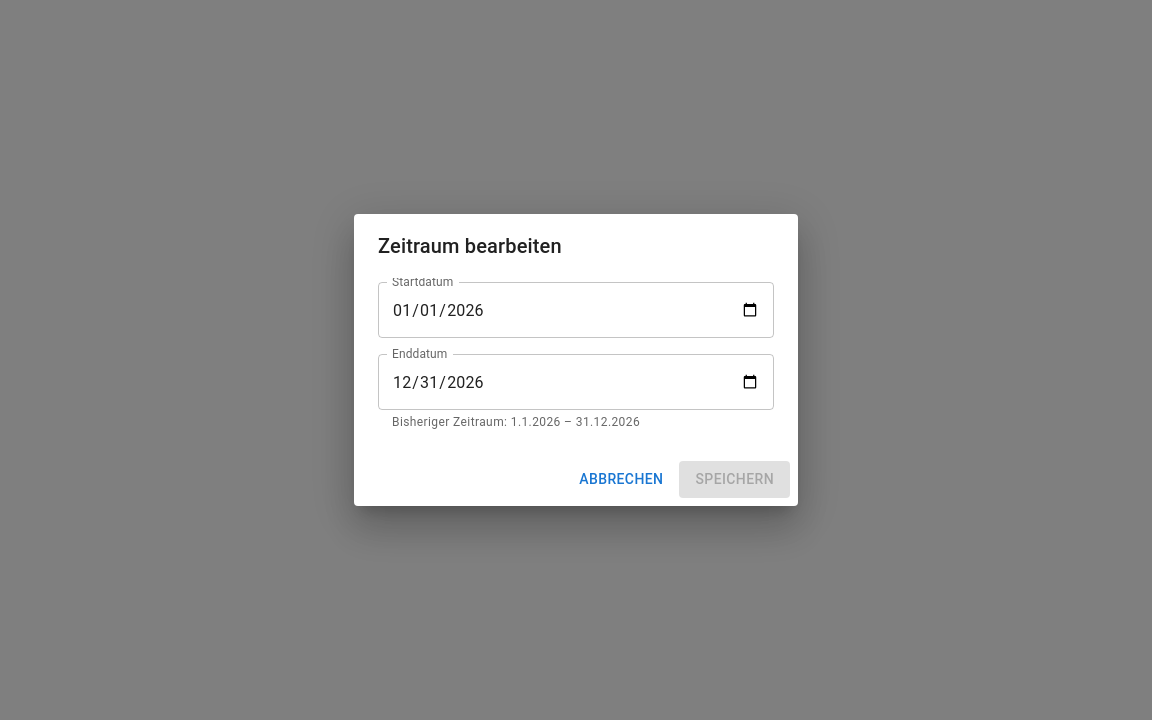
SeasonPeriodEditDialog › lists the conflicting planting plans returned by the server and stays open
Type "2026-06-01" into the date field labelled "Startdatum" at coordinates (576, 310), box [378,282,774,338]
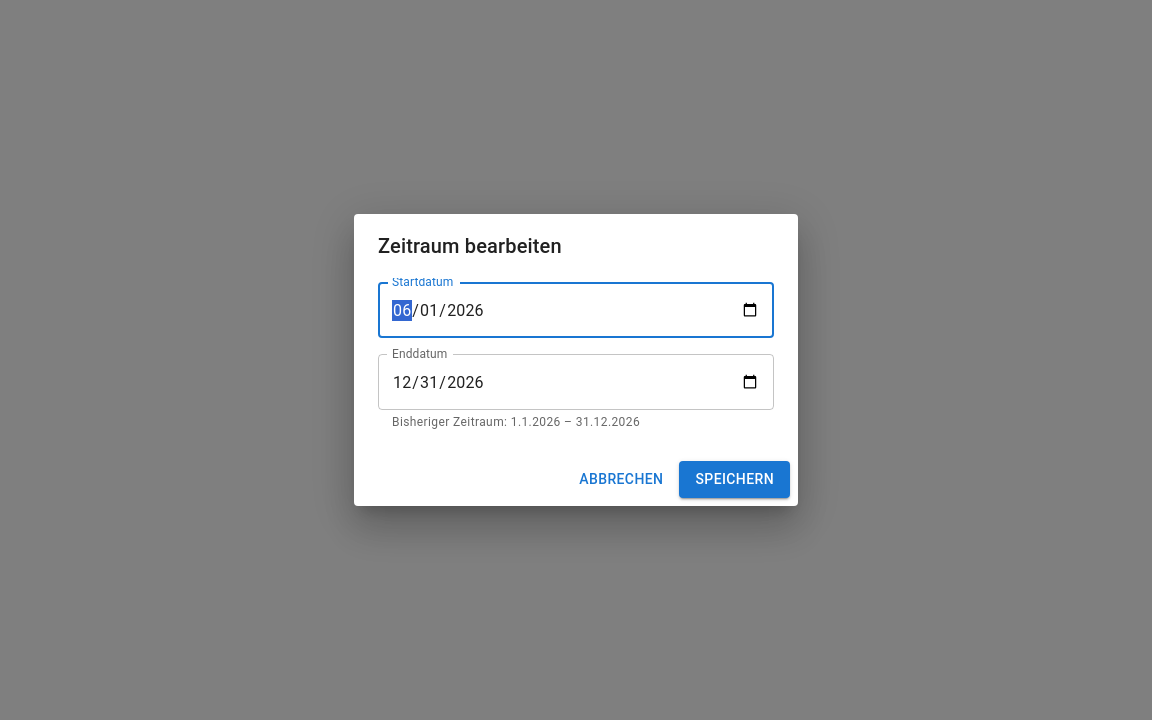
Click the button "Speichern" at coordinates (735, 479), box [679,461,790,498]
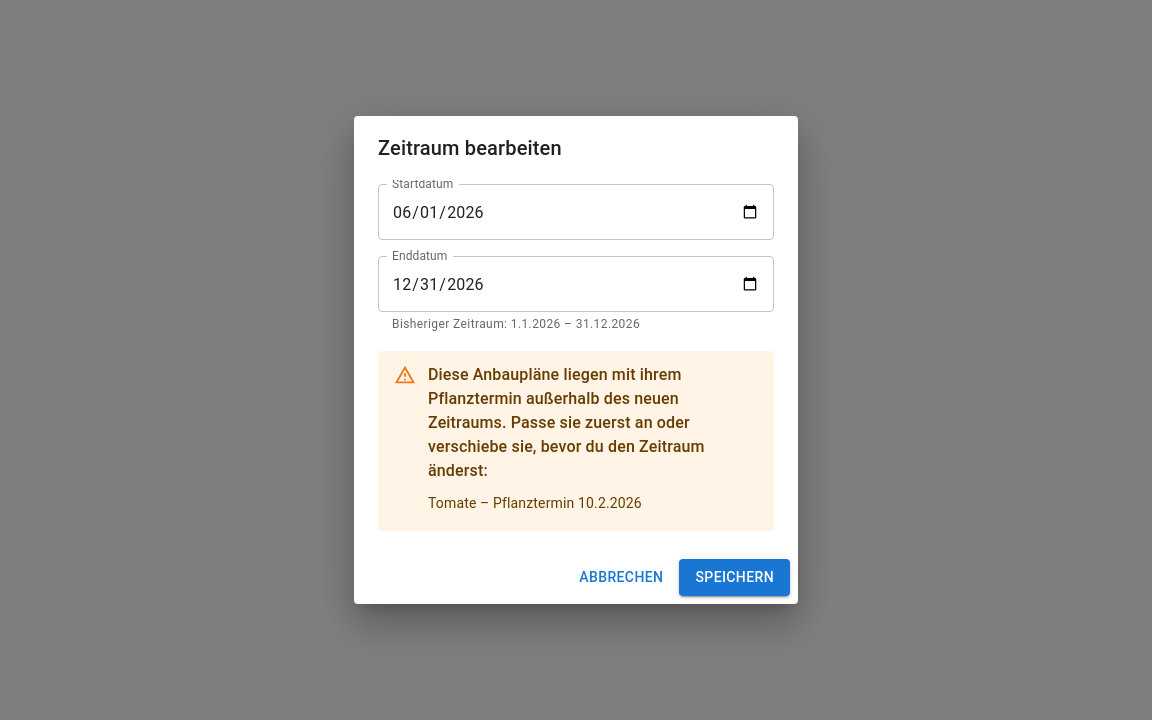
Expected: the text "Tomate – Pflanztermin 10.2.2026" is shown, [428,495,642,511]
